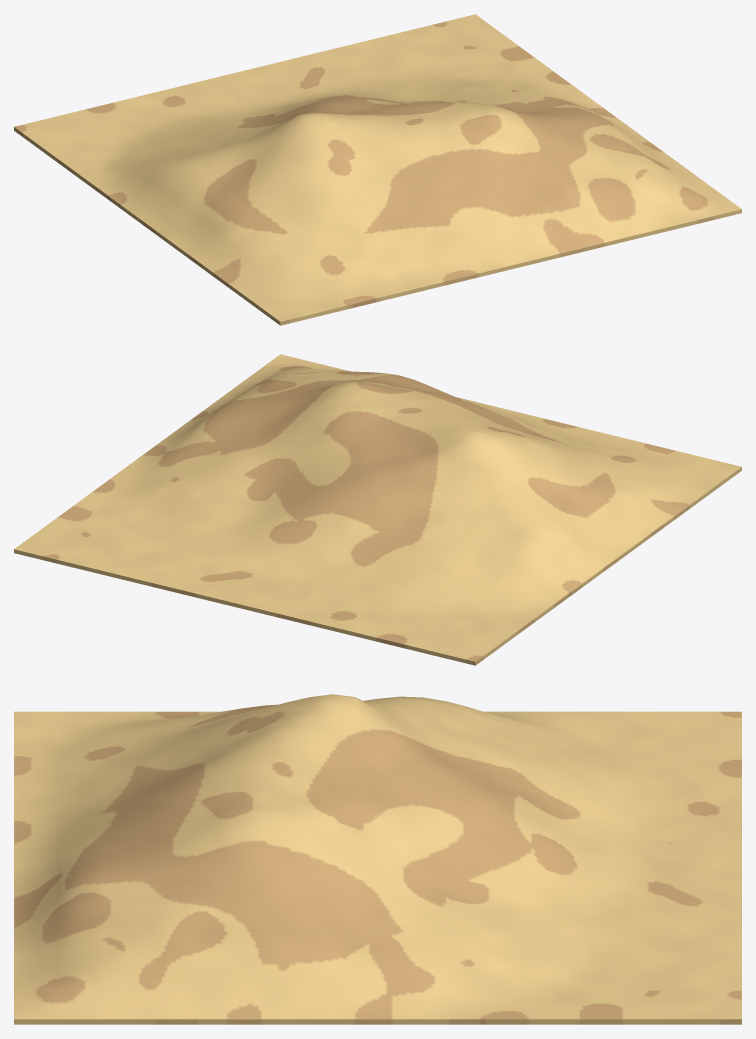
File: Desert_Mountains_02.obj
3 views of the same model, one above another, from view 1: azimuth 30°, elevation 25°; view 2: azimuth 150°, elevation 25°; view 3: azimuth 270°, elevation 25° (orthographic). The views are drawn at different scales.
Bounding box in the file's own units: 10 × 1.79 × 10.
1 material, 1 textured.
